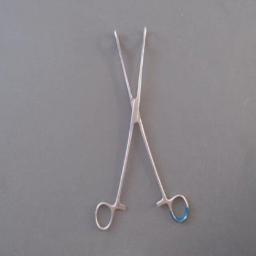Sponge Forceps: (90, 16, 194, 234)
